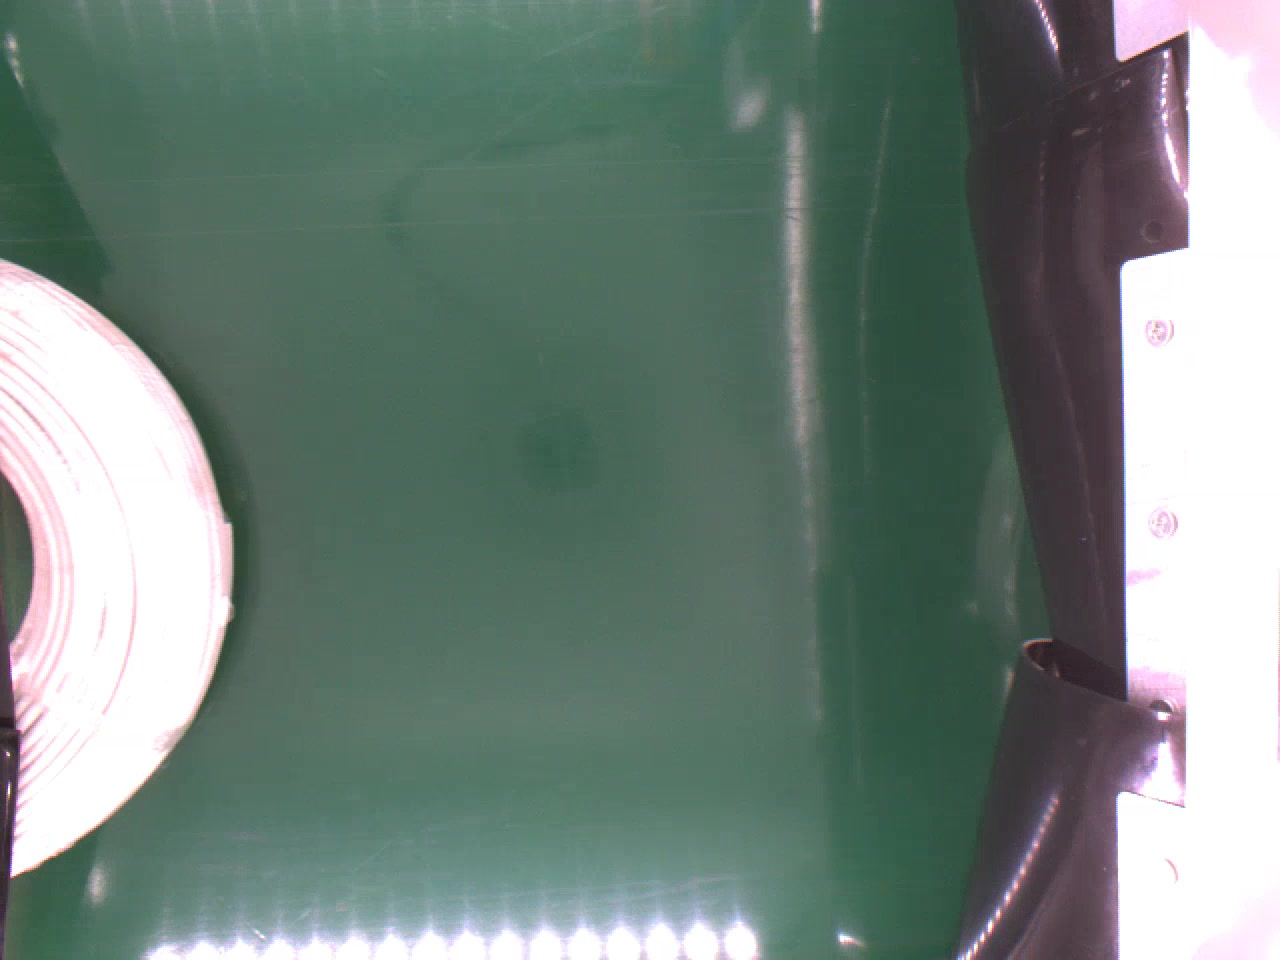white: (0, 256, 232, 883)
